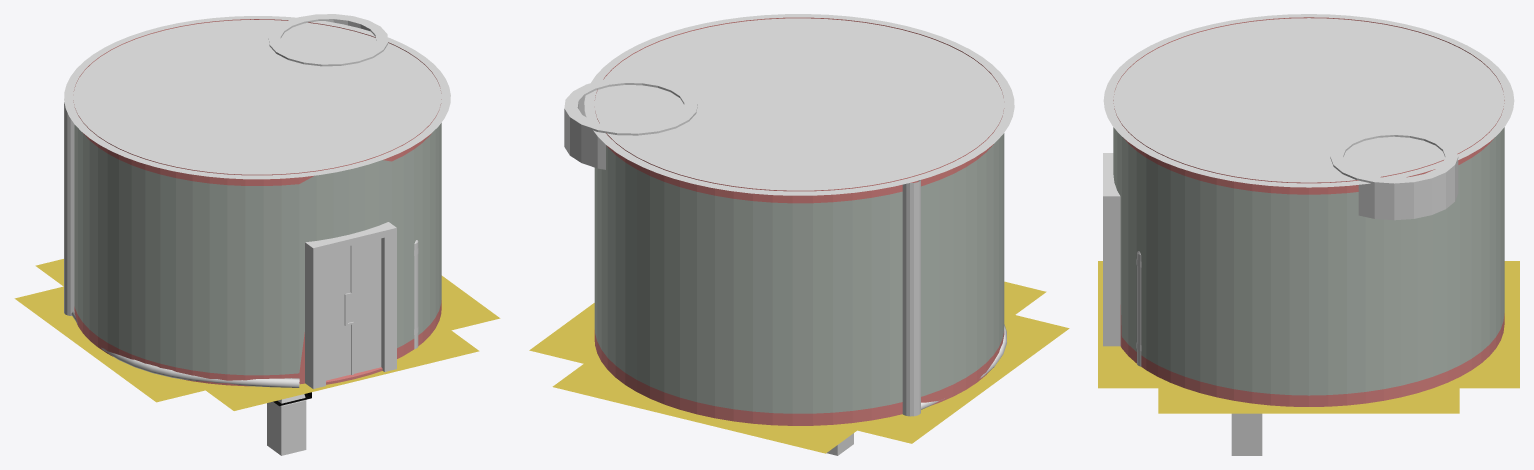
The model's file is InteriorOfShip2.fbx.
3 views of the same model, side by side, from view 1: azimuth 30°, elevation 25°; view 2: azimuth 150°, elevation 25°; view 3: azimuth 270°, elevation 25° (orthographic). The views are drawn at different scales.
Visible parts, largest first — view 1: Nave, NaveTecho, NaveFloor, Puerta, MarcoPuerta, naveArriba, tubo, PanelDefensa, tubo2, TanqueOxigeno, detallePuerta; view 2: Nave, NaveTecho, NaveFloor, tubo, naveArriba; view 3: Nave, NaveTecho, NaveFloor, naveArriba, MarcoPuerta, PanelDefensa, TanqueOxigeno.
Part boxes in pixels (left/top/right/bottom): Nave: left=73, top=19, right=441, bottom=386; NaveTecho: left=64, top=16, right=450, bottom=179; NaveFloor: left=14, top=259, right=500, bottom=410; Puerta: left=326, top=238, right=381, bottom=380; MarcoPuerta: left=305, top=222, right=396, bottom=388; naveArriba: left=268, top=14, right=388, bottom=66; tubo: left=64, top=102, right=74, bottom=315; PanelDefensa: left=267, top=394, right=306, bottom=455; tubo2: left=71, top=310, right=299, bottom=387; TanqueOxigeno: left=414, top=240, right=418, bottom=349; detallePuerta: left=344, top=245, right=353, bottom=374; Nave: left=594, top=17, right=1004, bottom=425; NaveTecho: left=584, top=14, right=1014, bottom=195; NaveFloor: left=529, top=281, right=1069, bottom=453; tubo: left=902, top=180, right=920, bottom=416; naveArriba: left=564, top=77, right=697, bottom=169; Nave: left=1113, top=17, right=1504, bottom=406; NaveTecho: left=1103, top=14, right=1514, bottom=187; NaveFloor: left=1098, top=261, right=1519, bottom=413; naveArriba: left=1330, top=129, right=1458, bottom=220; MarcoPuerta: left=1103, top=153, right=1120, bottom=346; PanelDefensa: left=1231, top=413, right=1262, bottom=455; TanqueOxigeno: left=1136, top=251, right=1141, bottom=366.
Size of the model in its own units: 1505 by 1381 by 1505.
